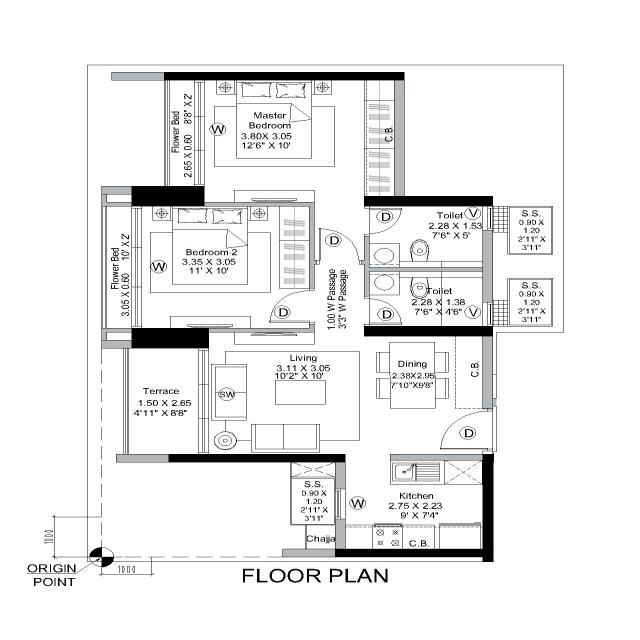Column: (162, 71, 406, 81), (168, 453, 346, 463), (130, 327, 210, 349), (130, 185, 206, 207), (363, 195, 494, 207), (363, 325, 494, 337), (334, 548, 484, 558), (482, 453, 494, 563)
Door: (482, 408, 494, 455), (308, 287, 316, 325), (315, 259, 363, 265), (363, 206, 371, 237), (364, 295, 371, 327)
Ventilator: (482, 205, 494, 231), (482, 302, 494, 326)
Window: (131, 205, 143, 329), (193, 80, 205, 186), (334, 488, 346, 520)
